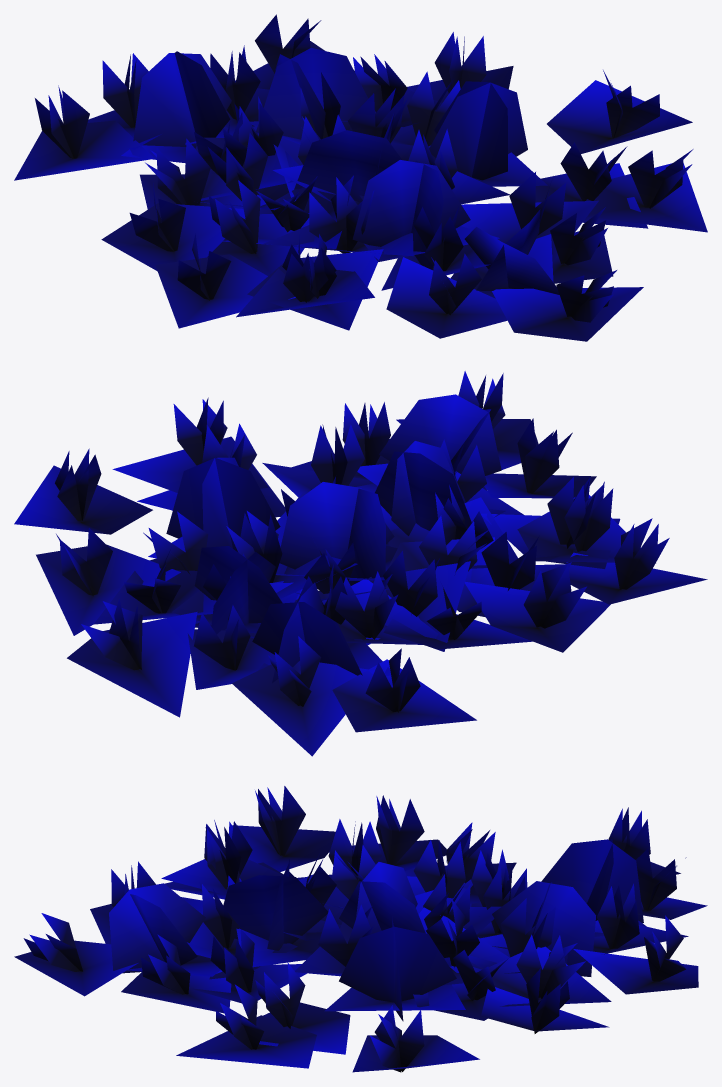
Rendered from SM_WildGrass_06.fbx.
3 views of the same model, one above another, from view 1: azimuth 30°, elevation 25°; view 2: azimuth 150°, elevation 25°; view 3: azimuth 270°, elevation 25° (orthographic). The views are drawn at different scales.
Visible parts, largest first — view 1: SM_WildGrass_06_LOD0; view 2: SM_WildGrass_06_LOD0; view 3: SM_WildGrass_06_LOD0.
Part boxes in pixels (box(x1,y1,x2,y2)): SM_WildGrass_06_LOD0: box(14, 14, 707, 341); SM_WildGrass_06_LOD0: box(14, 371, 707, 756); SM_WildGrass_06_LOD0: box(14, 786, 707, 1072).
Bounding box in the file's own units: 121 × 135 × 22.34.
